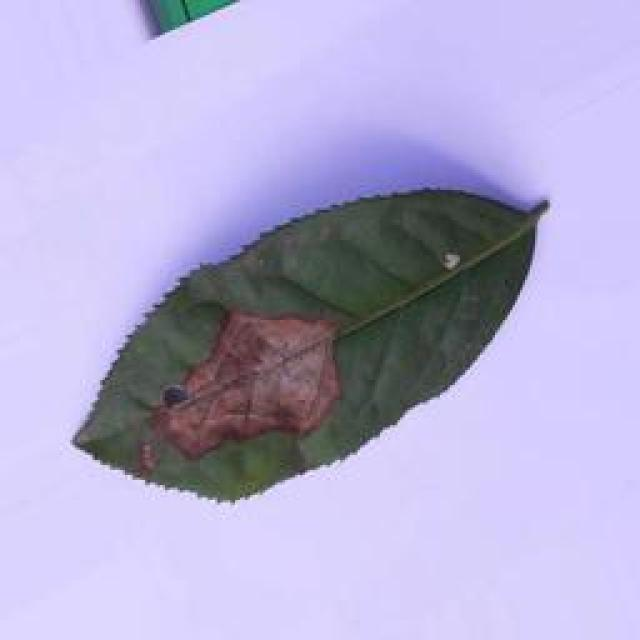Gray Blight: (51, 182, 560, 512)
